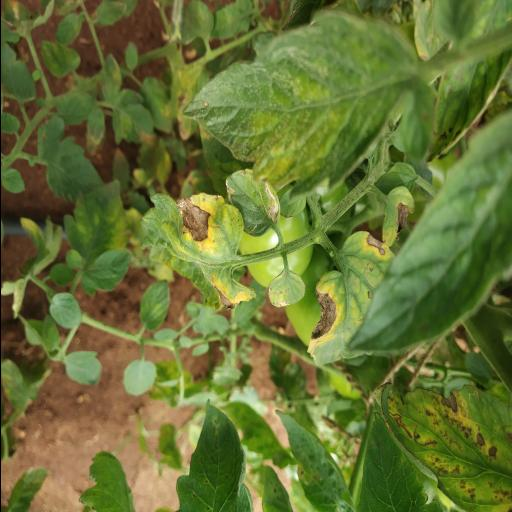Early Blight: (138, 192, 246, 312), (308, 230, 394, 368)
